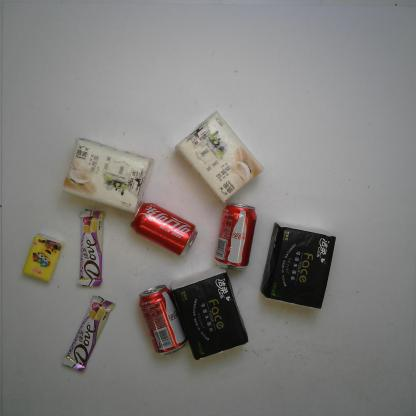Chocolate: (64, 294, 116, 372), (69, 207, 104, 288)
Drink: (131, 202, 196, 257), (137, 284, 186, 353), (214, 202, 256, 272)
Tissue: (178, 110, 262, 203), (61, 140, 154, 212), (174, 272, 249, 361), (264, 224, 336, 311), (23, 232, 62, 282)
